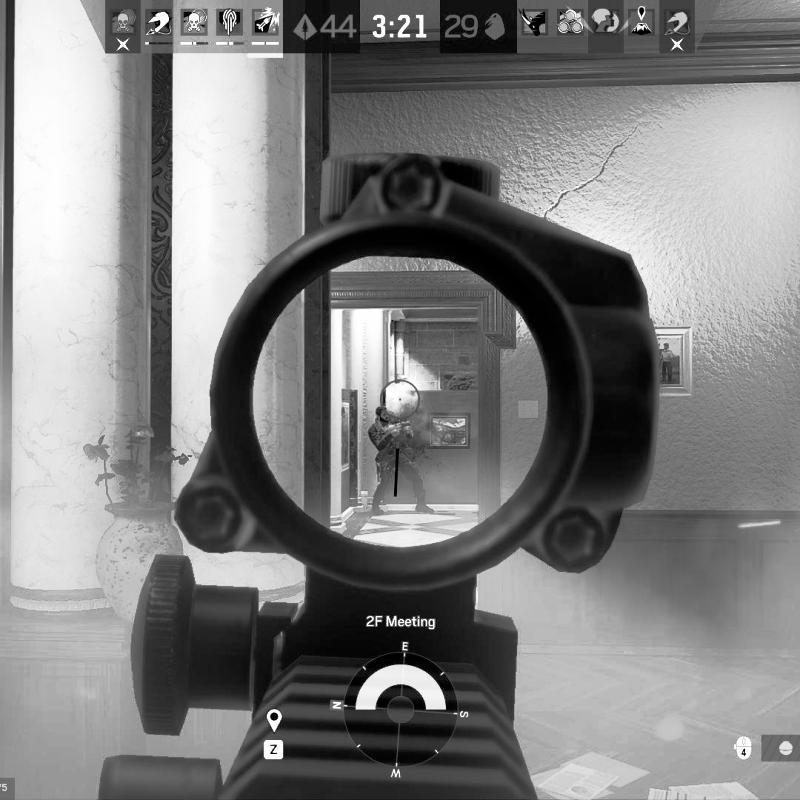Character: (368, 404, 438, 518)
Head: (375, 405, 393, 425)
